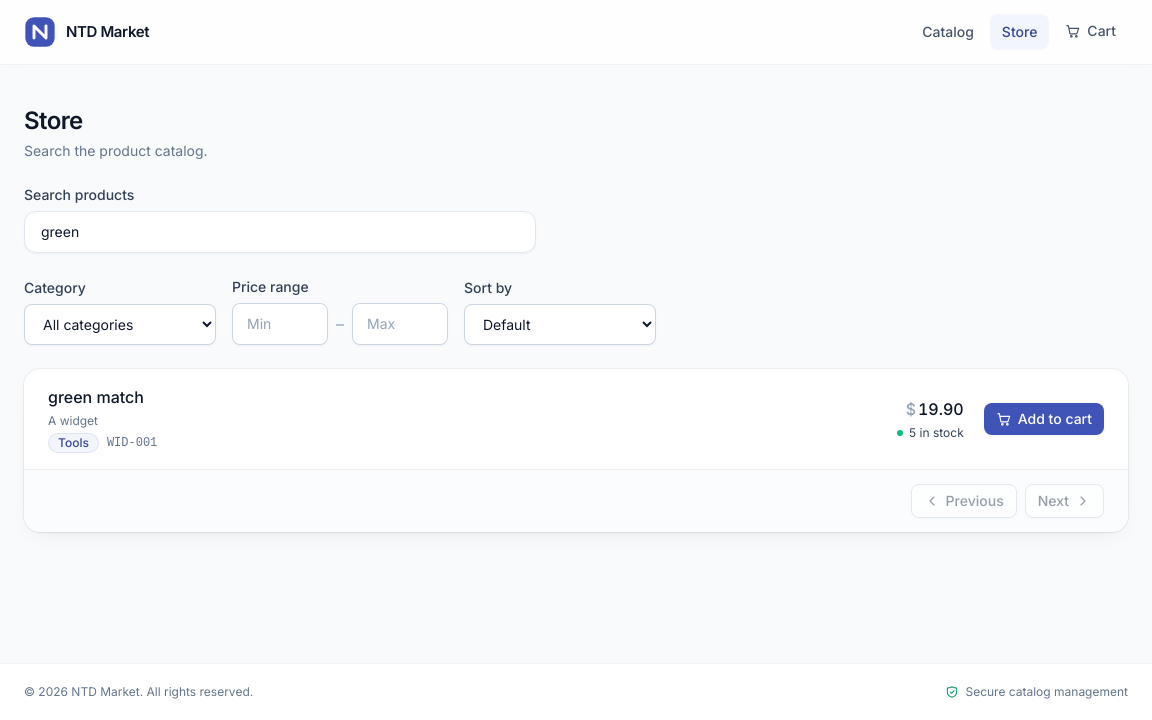
Test: StoreSearchPage › restores the full list and removes q from the URL when the search is cleared
The width and height of the screenshot is (1152, 720).
Check: the text "green match" is shown, box [48,385,157,409]
Clear the search field labelled "Search products" at [280, 232], box [24,211,536,253]
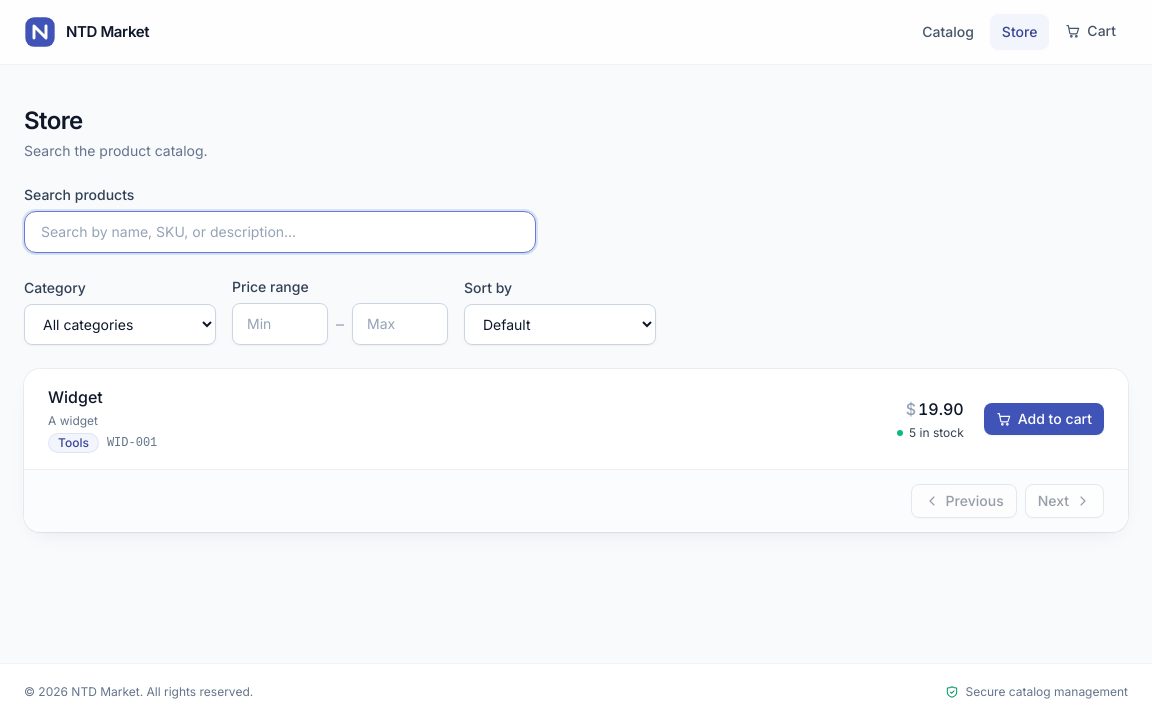
Check: the text "Widget" is shown, box [48,387,103,407]
